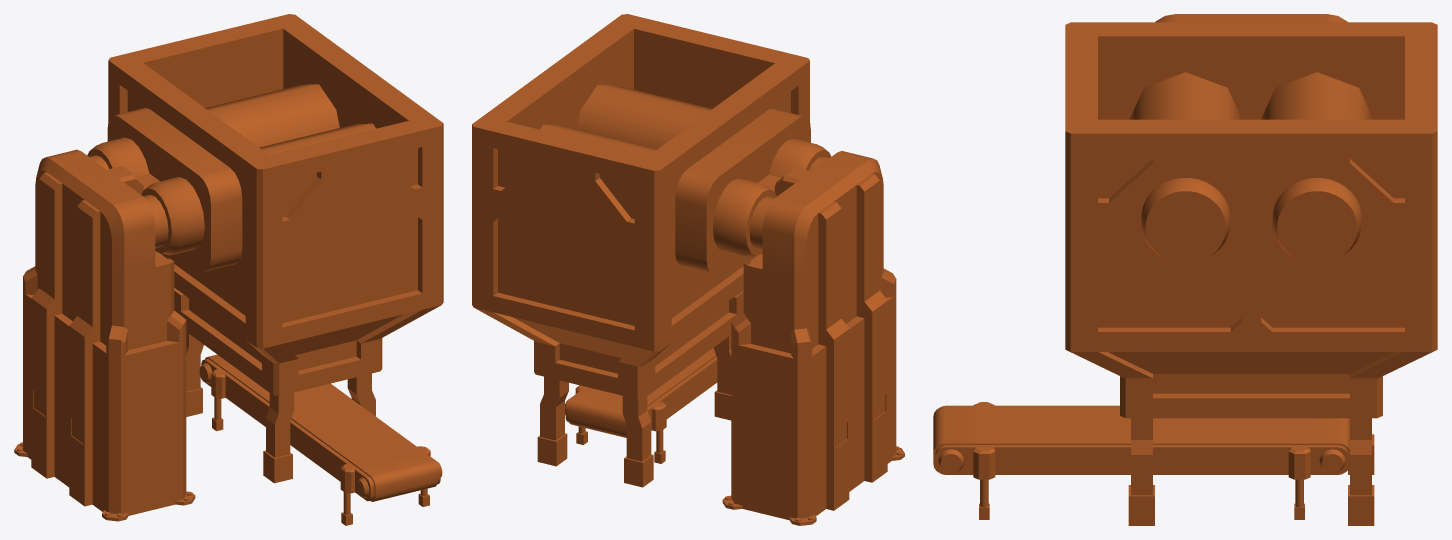
File: SM_OreCrusher.FBX
3 renders of one model, left to right at view 1: azimuth 30°, elevation 25°; view 2: azimuth 150°, elevation 25°; view 3: azimuth 270°, elevation 25°, orthographic. The views are drawn at different scales.
Visible parts, largest first — view 1: Orecrusher; view 2: Orecrusher; view 3: Orecrusher.
Boxes of the visible parts, left/top/right/bottom form: Orecrusher: left=14, top=14, right=443, bottom=525; Orecrusher: left=472, top=14, right=904, bottom=525; Orecrusher: left=933, top=14, right=1437, bottom=525.
Bounding box in the file's own units: 656 × 672 × 737.
